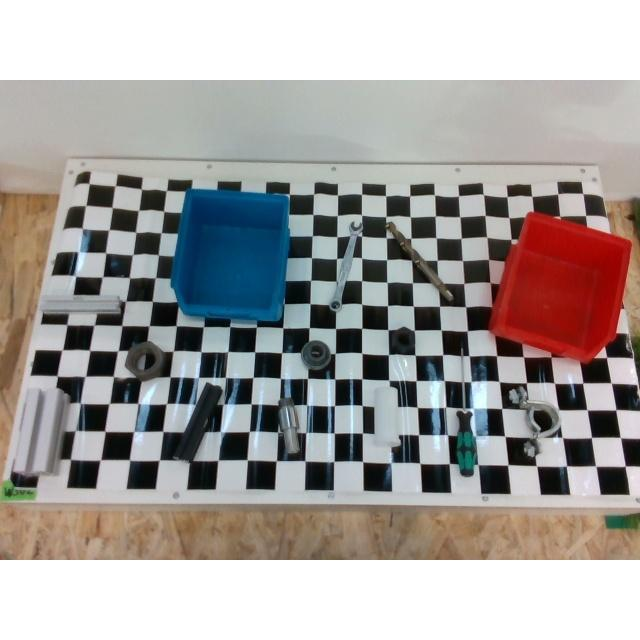Axis2: (278, 398, 298, 454)
Bearing2: (301, 339, 331, 368)
Drill: (386, 220, 454, 304)
F20_20_B: (174, 383, 222, 461)
F20_20_G: (38, 294, 122, 314)
Housing: (508, 388, 560, 457)
M20: (388, 327, 416, 353)
M30: (125, 341, 167, 381)
S40_40_G: (12, 388, 68, 474)
Screwdriver: (454, 346, 478, 478)
Spacer: (372, 388, 400, 448)
Wrench: (330, 221, 362, 313)
container_box_blue: (172, 189, 288, 321)
container_box_red: (488, 212, 632, 364)
